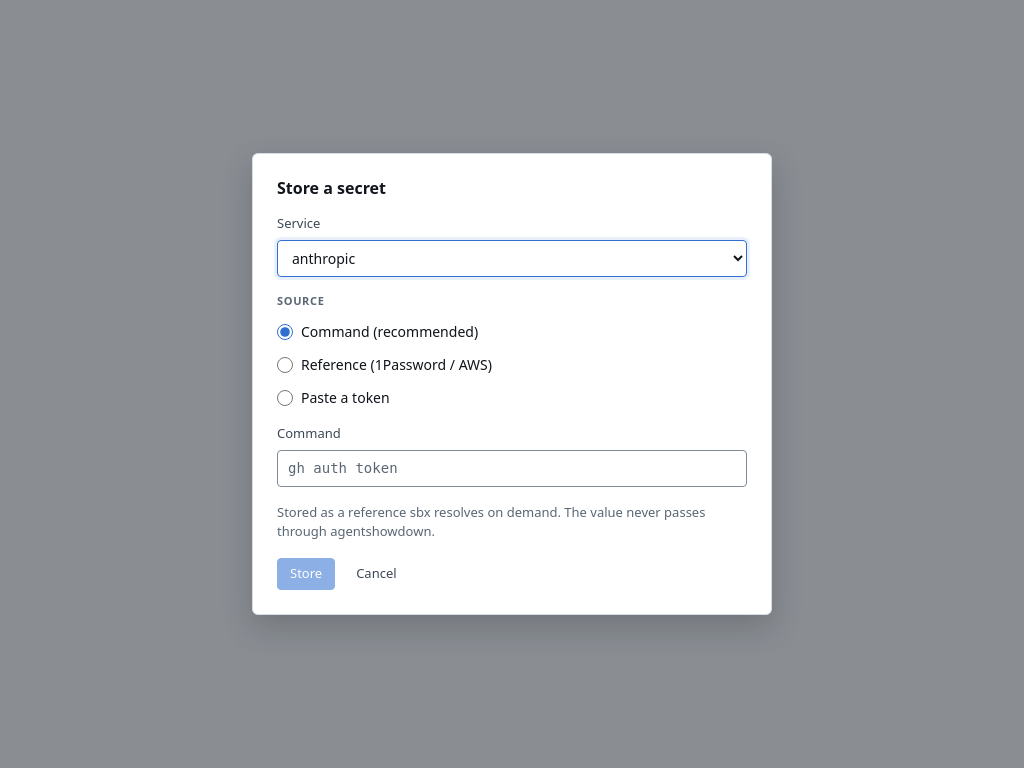
Test: SecretModal › surfaces a server error without closing
The width and height of the screenshot is (1024, 768).
Type "x" into the field labelled "Command". click: point(512, 468)
box: [277,450,747,487]
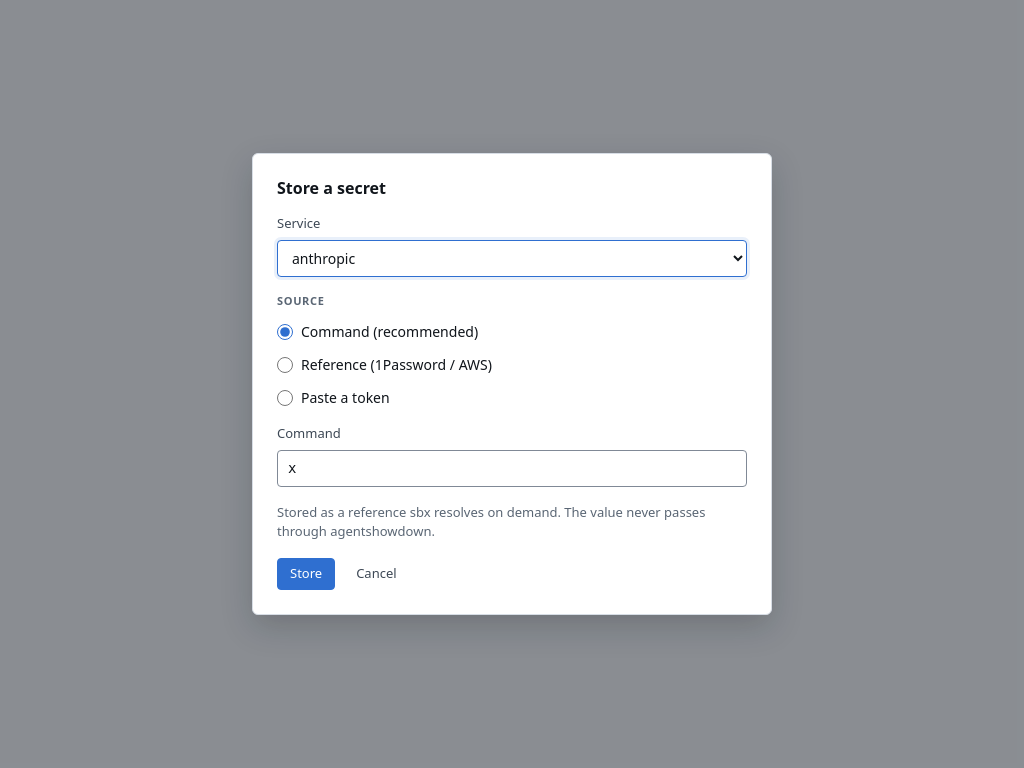
Submit the form named "store", box [277,214,747,590]
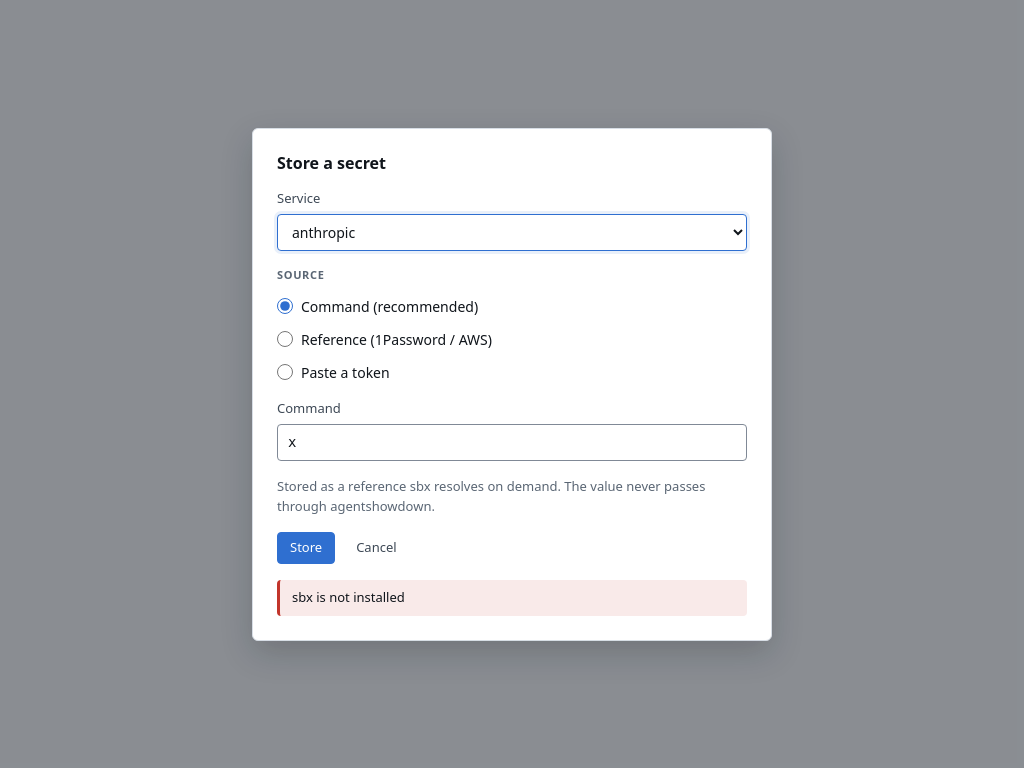
Expected: the text "sbx is not installed" is shown, [277,580,747,616]
